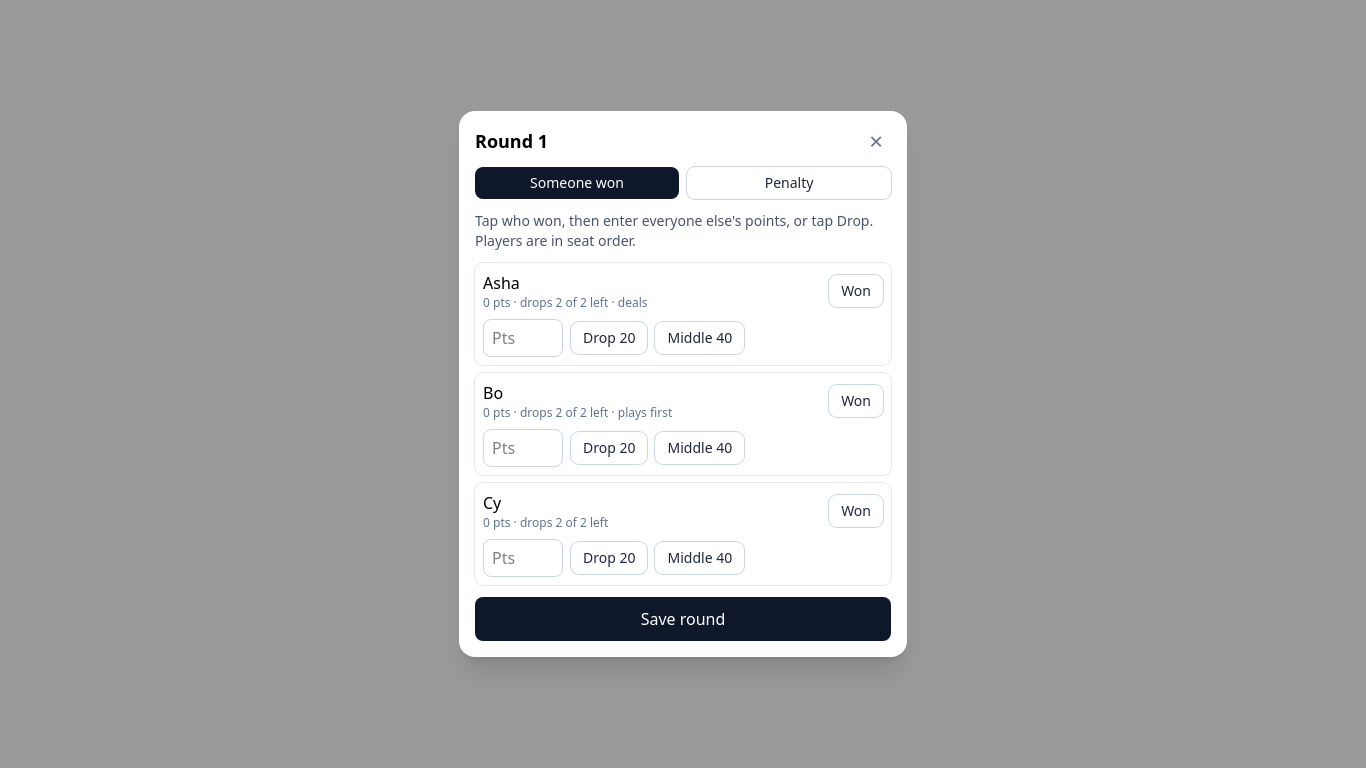
RoundEntry › asks for a winner and for everyone else's points, without saving
This screenshot has width=1366, height=768.
Click the button "Save round" at (683, 619), box [475,597,891,641]
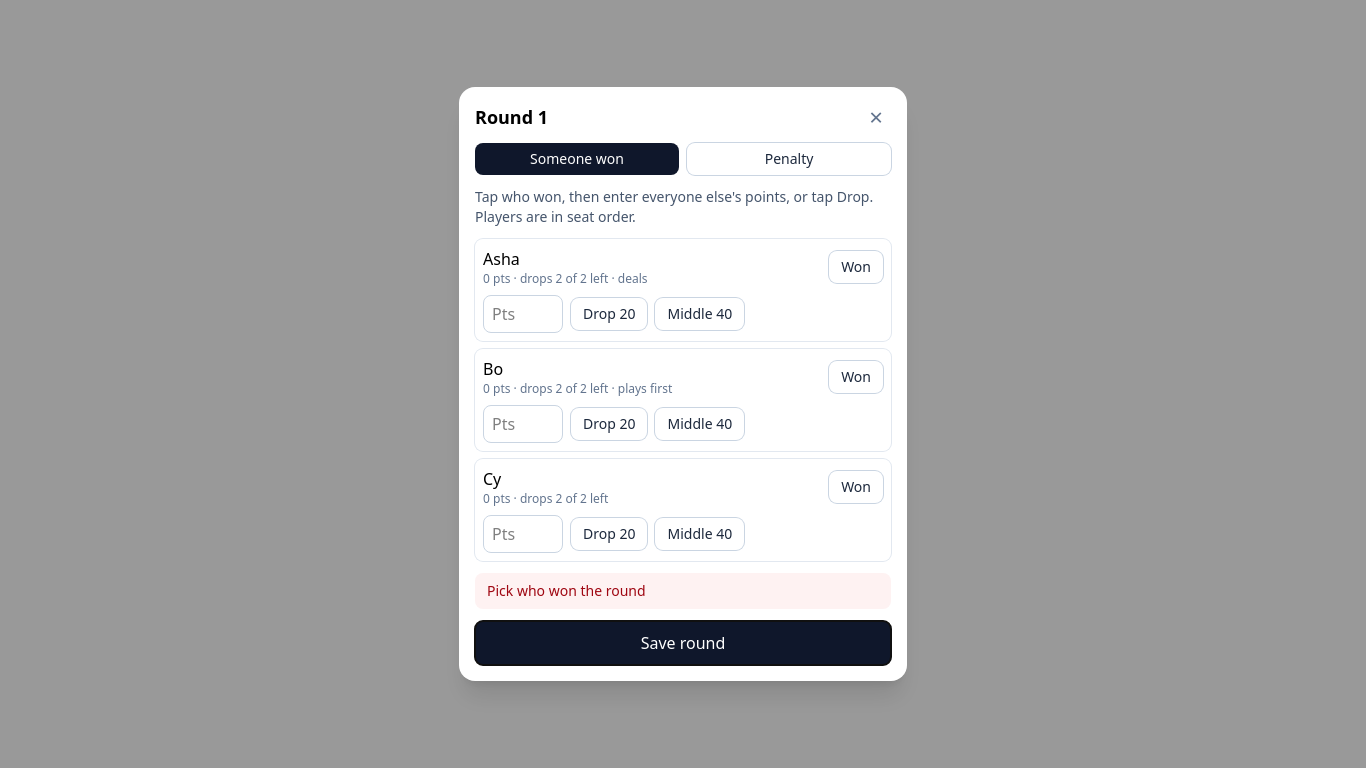
Expected: the message shows "Pick who won", [487,581,646,600]
Click the button "Won" in the row of "· deals" at (856, 267), box [829,251,883,283]
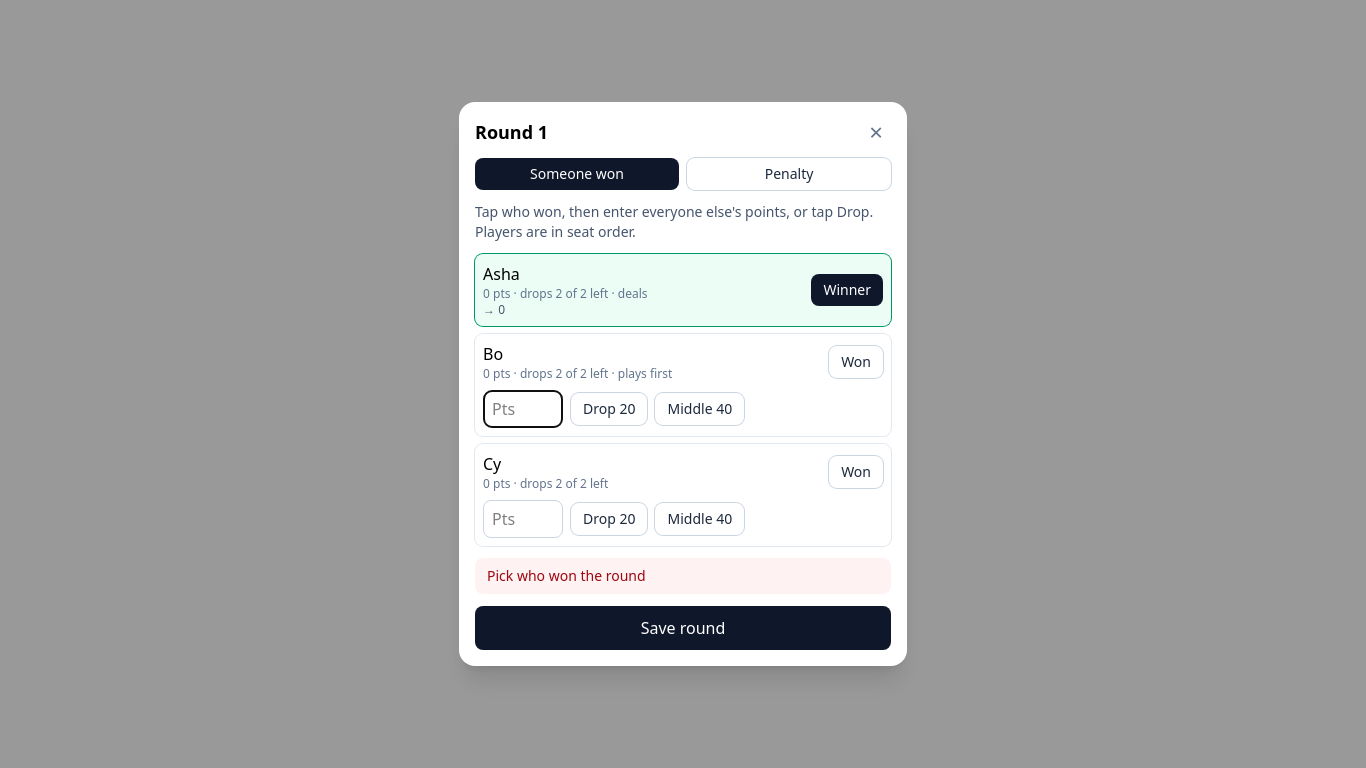
Type "10" into the field named "Bo points" at (523, 409), box [483,390,563,428]
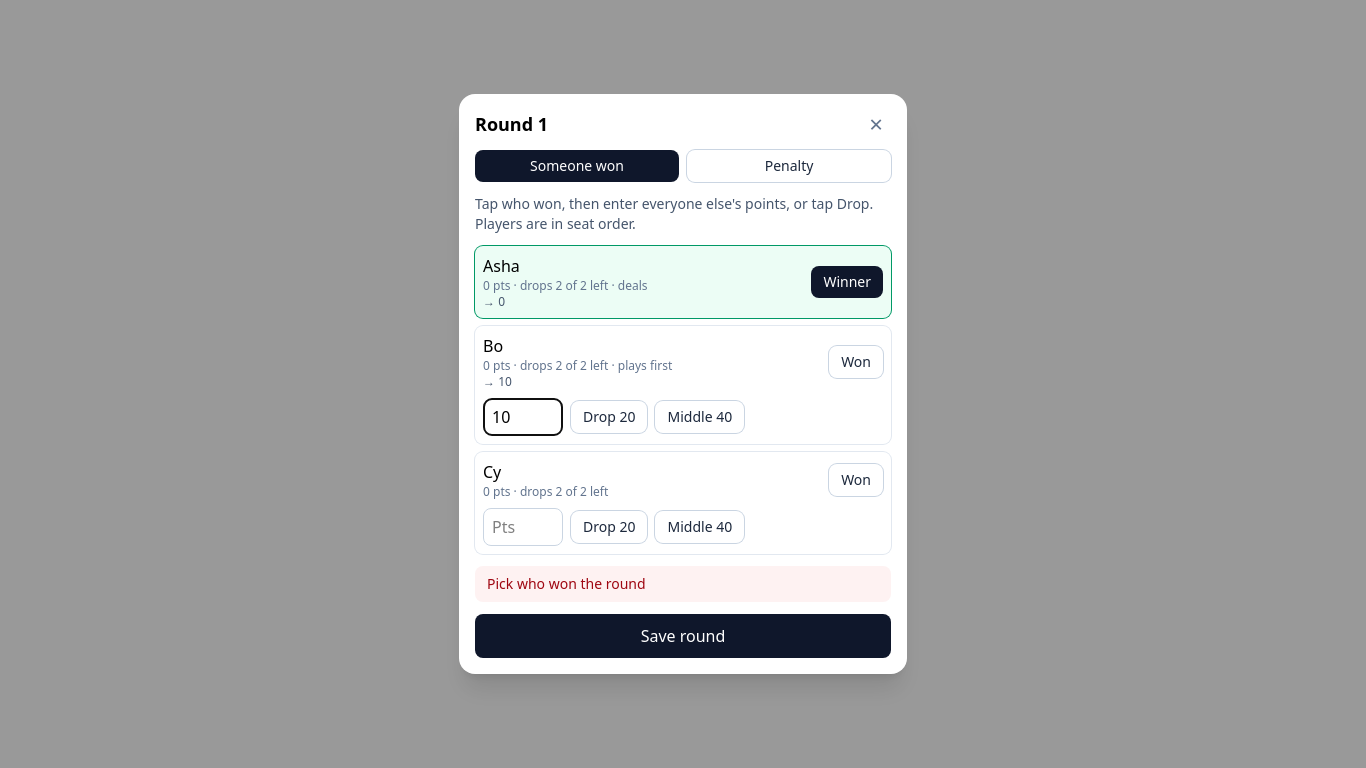
Click the button "Save round" at (683, 636), box [475,614,891,658]
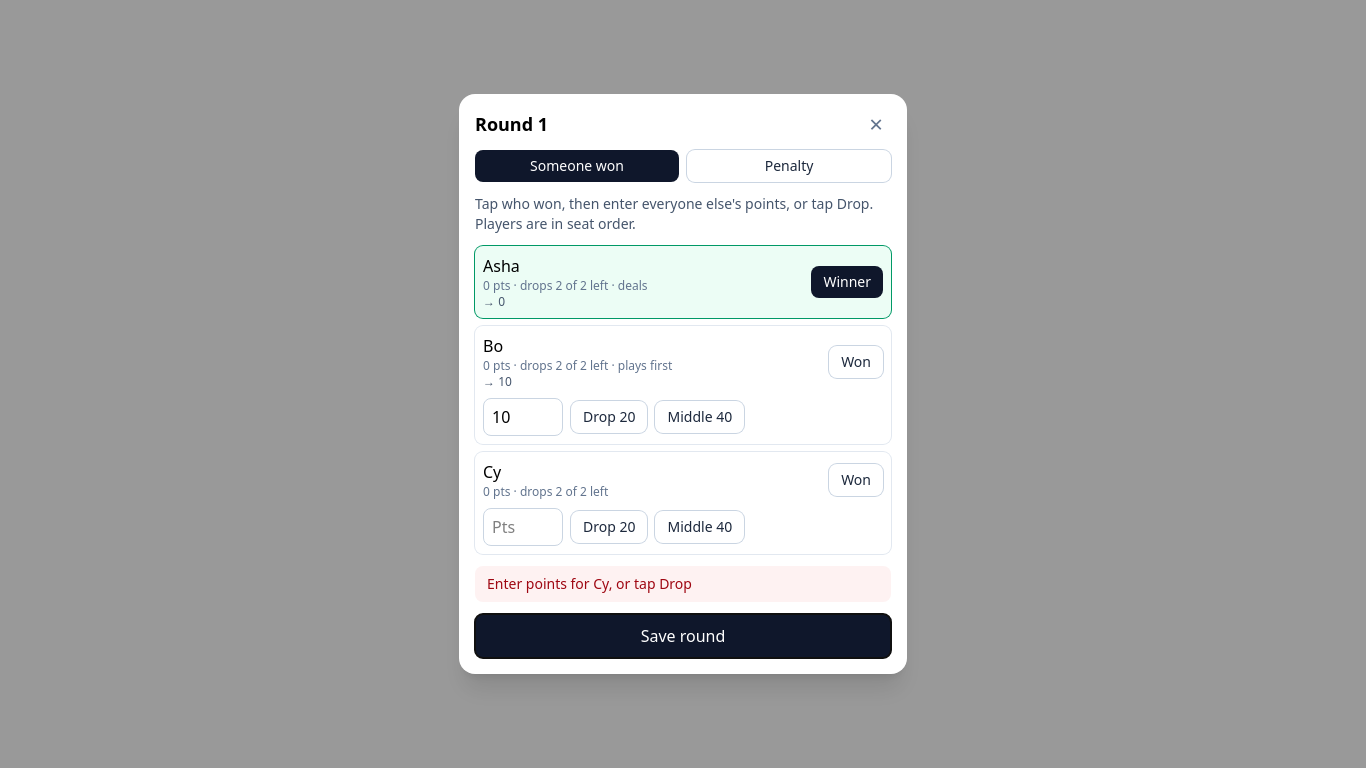
Expected: the message shows "Cy", [487,574,692,593]
